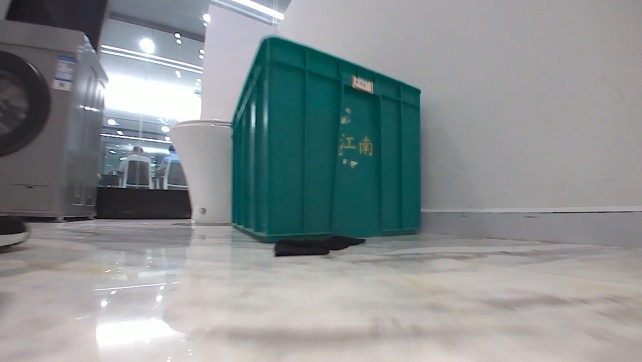socks: (270, 231, 367, 260)
toilet: (166, 115, 235, 227)
washing_machine: (0, 14, 110, 223)
